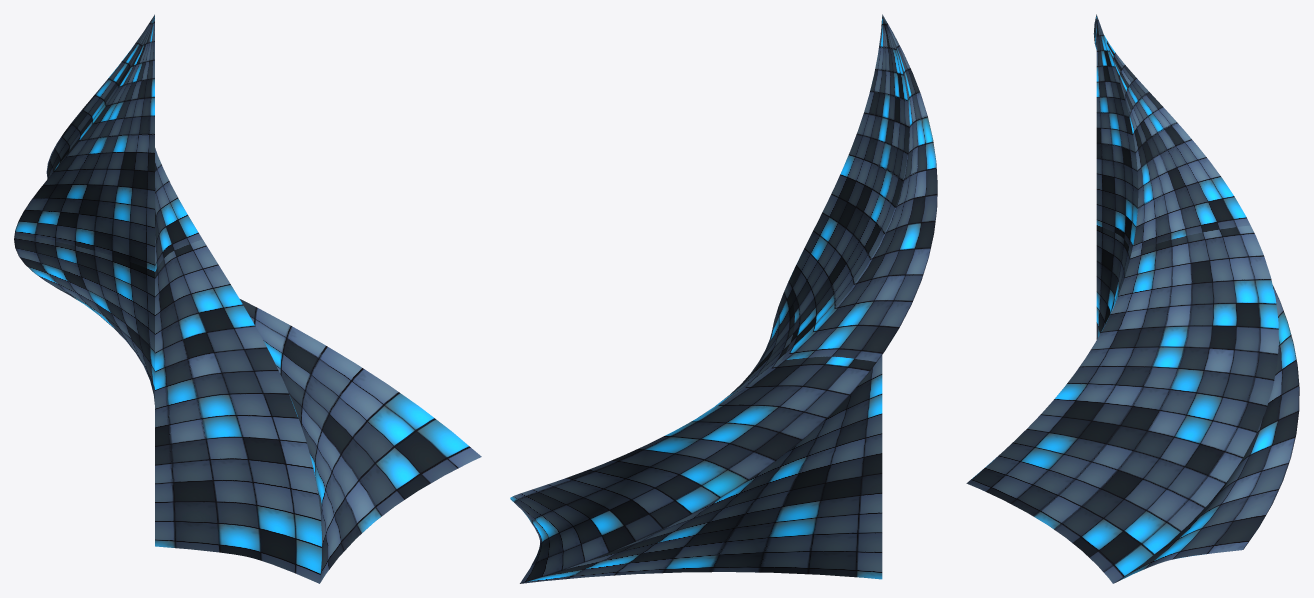
Rendered from futuristic-glass-skyscraper.fbx.
3 views of the same model, side by side, from view 1: azimuth 30°, elevation 25°; view 2: azimuth 150°, elevation 25°; view 3: azimuth 270°, elevation 25° (orthographic). The views are drawn at different scales.
Parts seen in each view (by area): view 1: BLDG6_Chrome_0; view 2: BLDG6_Chrome_0; view 3: BLDG6_Chrome_0.
Part boxes in pixels (x1,y1,x2,y2): BLDG6_Chrome_0: (14,14,481,583); BLDG6_Chrome_0: (510,14,937,583); BLDG6_Chrome_0: (966,14,1299,583).
Size of the model in its own units: 1.05e+07 by 1.28e+07 by 8843276.
1 material, 1 textured.
